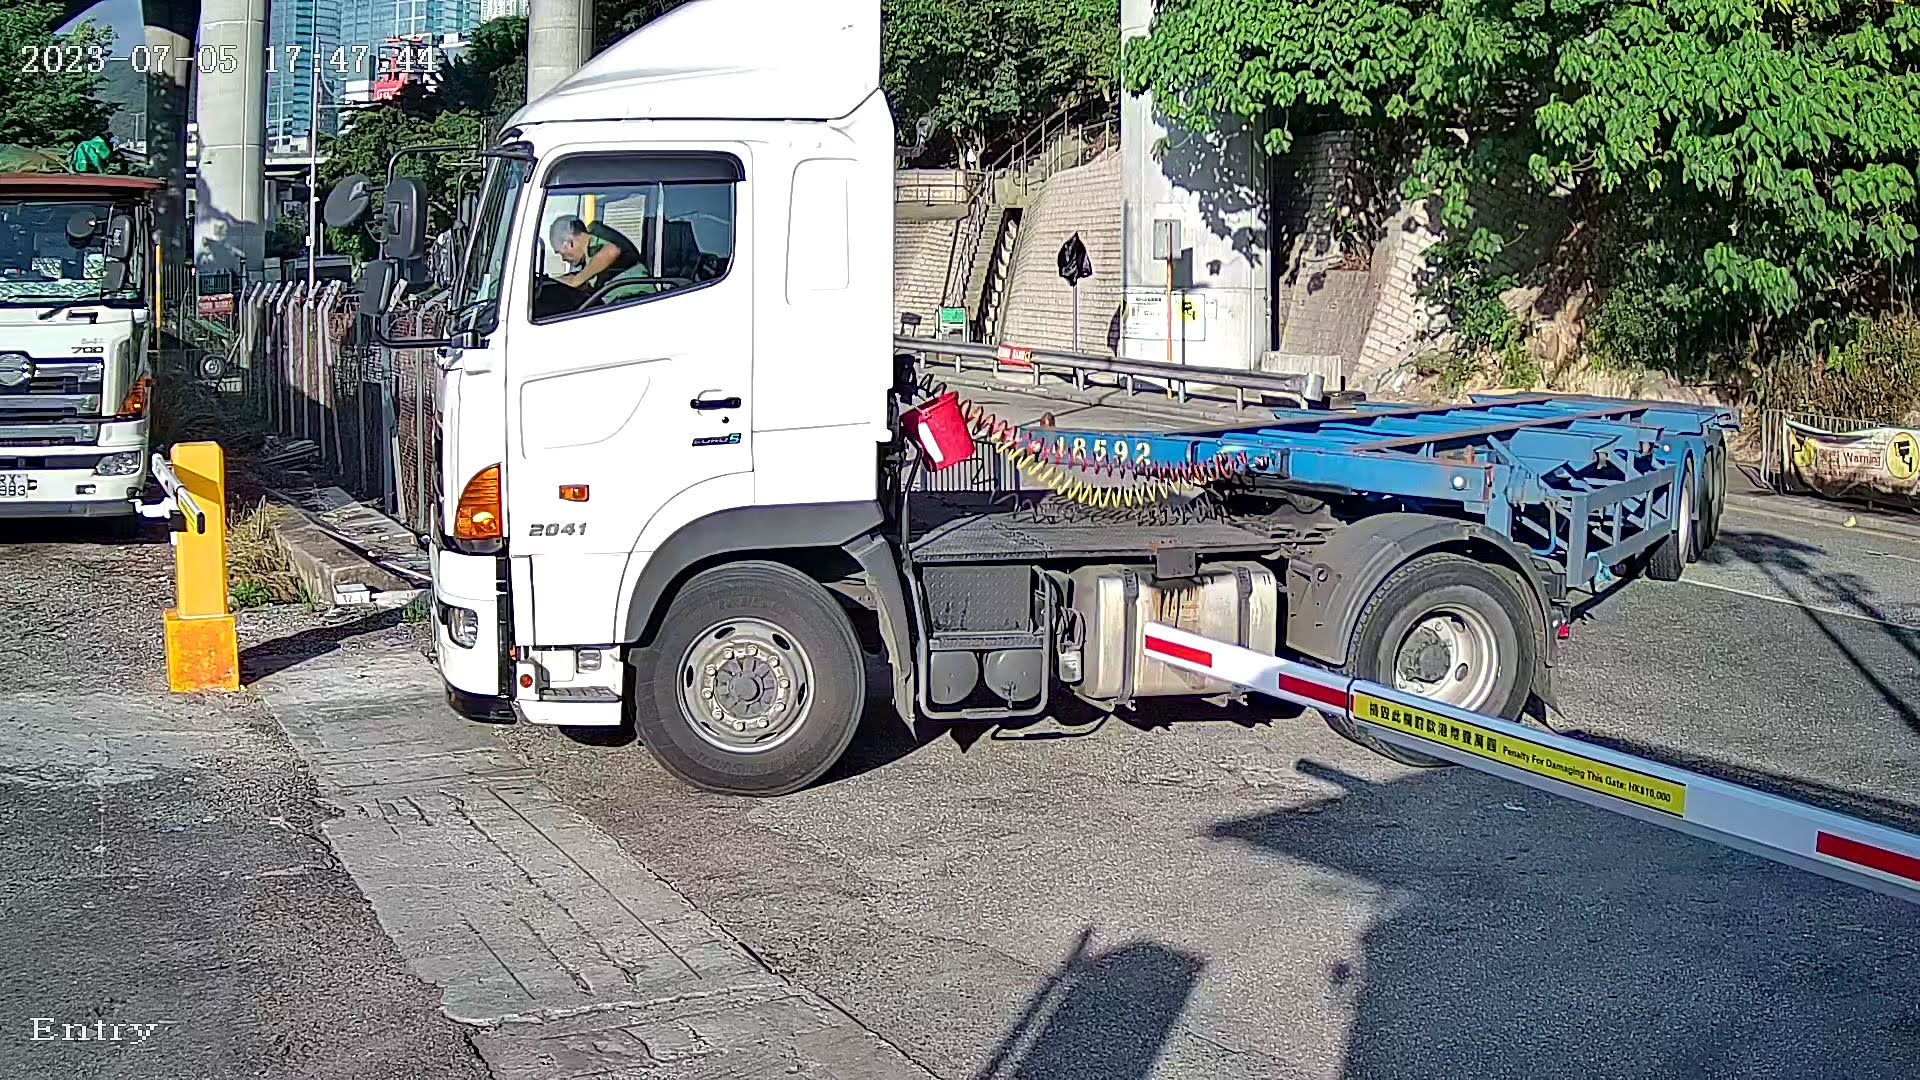tractor: (386, 4, 1735, 810)
